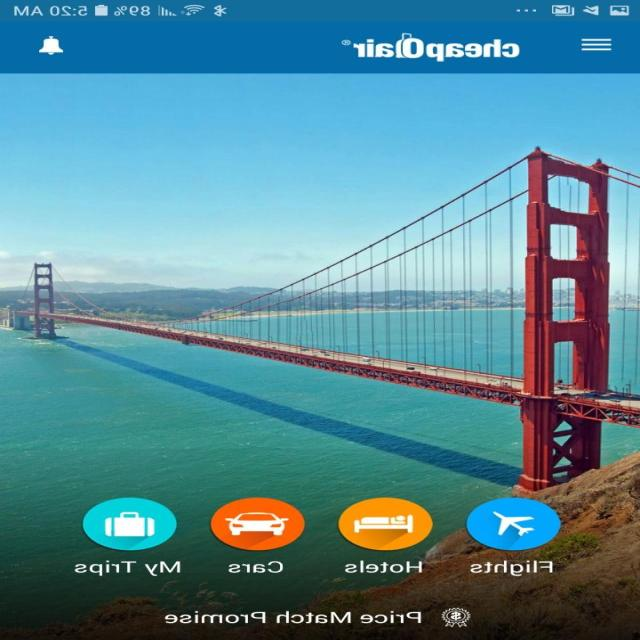BackgroundImage: (1, 73, 640, 640)
Icon: (82, 497, 178, 551), (39, 36, 65, 55), (580, 37, 614, 51)
Image: (340, 32, 521, 62), (466, 496, 562, 550), (338, 497, 434, 551), (210, 497, 306, 551), (441, 606, 471, 627)
Text: (165, 610, 423, 623), (74, 559, 182, 576), (471, 559, 554, 576), (345, 560, 423, 573), (228, 560, 284, 573)
